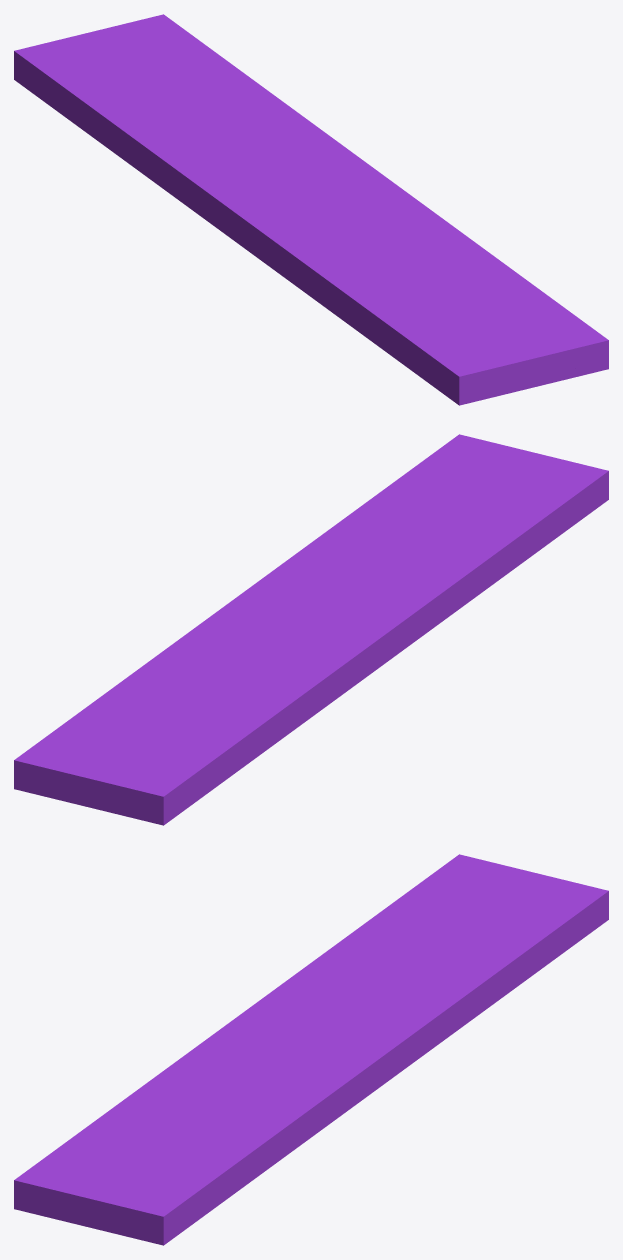
Rendered from StairsStep_74_chunks.fbx.
3 views of the same model, one above another, from view 1: azimuth 30°, elevation 25°; view 2: azimuth 150°, elevation 25°; view 3: azimuth 330°, elevation 25° (orthographic).
Visible parts, largest first — view 1: StairsStep_74_3, StairsStep_74_0, StairsStep_74_2; view 2: StairsStep_74_3, StairsStep_74_0, StairsStep_74_2; view 3: StairsStep_74_3, StairsStep_74_0, StairsStep_74_2.
Part boxes in pixels (left/top/right/bottom): StairsStep_74_3: left=14, top=14, right=354, bottom=227; StairsStep_74_0: left=216, top=196, right=577, bottom=405; StairsStep_74_2: left=307, top=154, right=608, bottom=376; StairsStep_74_3: left=14, top=617, right=366, bottom=825; StairsStep_74_0: left=315, top=444, right=608, bottom=677; StairsStep_74_2: left=206, top=434, right=497, bottom=619; StairsStep_74_3: left=256, top=854, right=608, bottom=1062; StairsStep_74_0: left=14, top=1003, right=307, bottom=1237; StairsStep_74_2: left=124, top=1031, right=417, bottom=1245.
Bounding box in the file's own units: 157 × 28.98 × 810.
